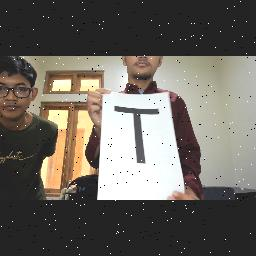t: (112, 102, 164, 168)
